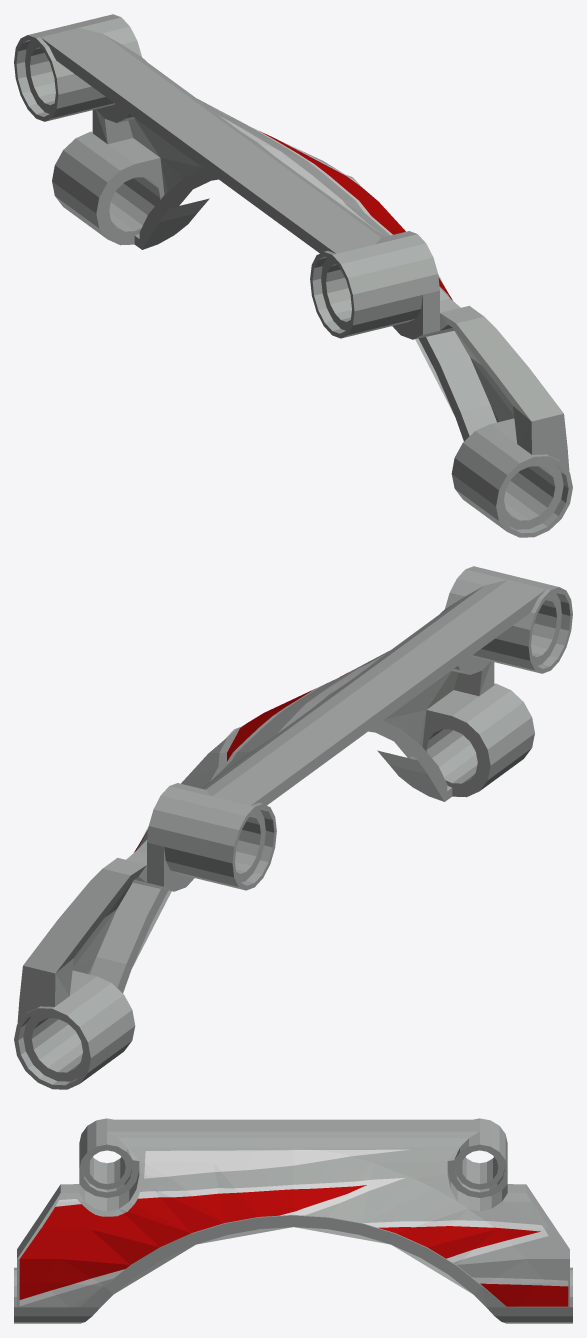
The picture shows the model from 3 angles, top to bottom: view 1: azimuth 30°, elevation 25°; view 2: azimuth 150°, elevation 25°; view 3: azimuth 270°, elevation 25°; orthographic projection. The views are drawn at different scales.
Visible parts, largest first — view 1: world; view 2: world; view 3: world.
Boxes of the visible parts, box(x1,y1,x2,y2) form: world: box(14, 14, 572, 537); world: box(14, 566, 572, 1089); world: box(14, 1118, 572, 1323).
Bounding box in the file's own units: 0.0158 × 0.0232 × 0.072.
